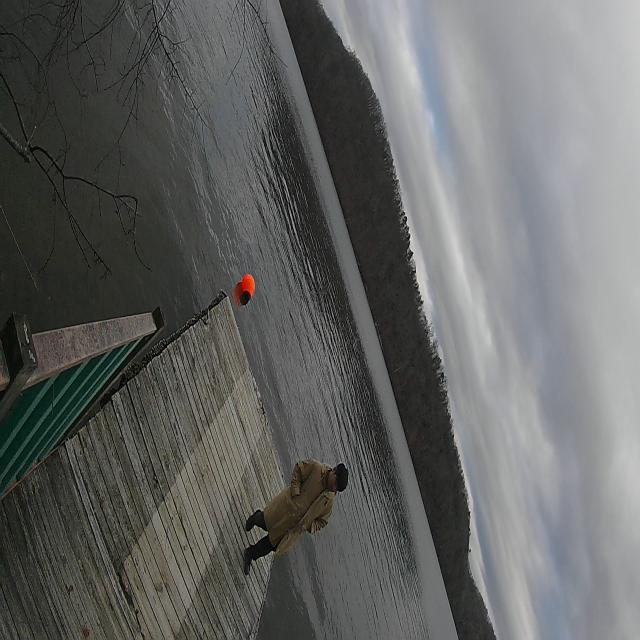Buoy: (238, 267, 258, 307)
